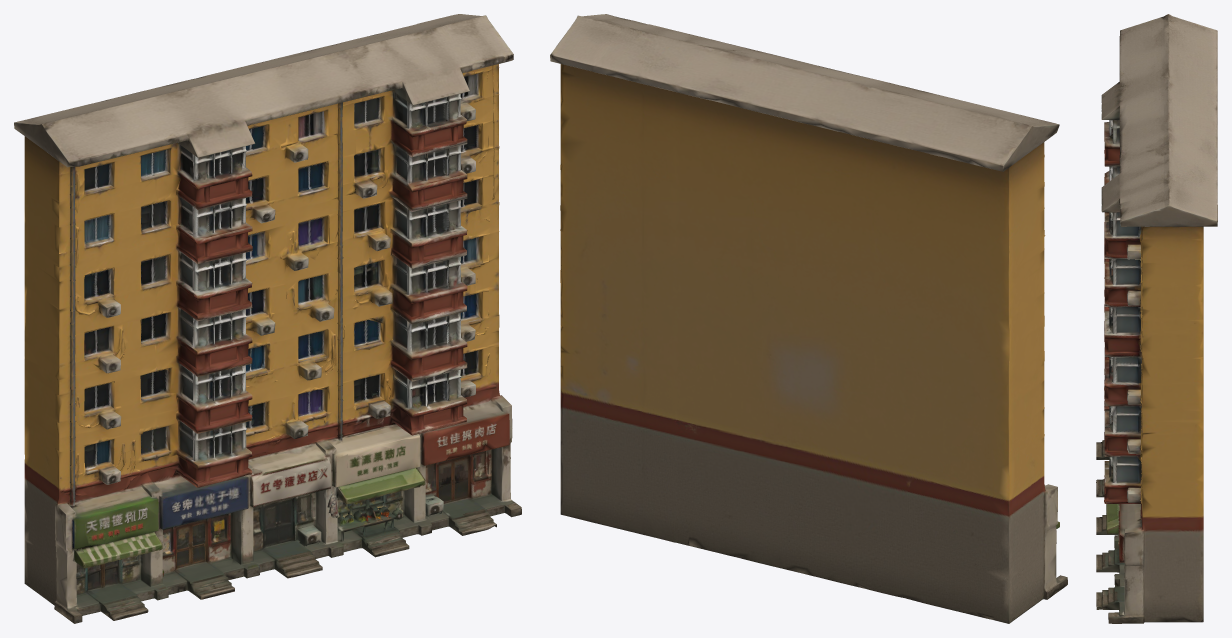
Rendered from tripo_convert_fdea5e5f-4280-4bd9-8c00-24547ec640b6.fbx.
The picture shows the model from 3 angles, left to right: view 1: azimuth 30°, elevation 25°; view 2: azimuth 150°, elevation 25°; view 3: azimuth 270°, elevation 25°; orthographic projection. The views are drawn at different scales.
Visible parts, largest first — view 1: tripo_node_fdea5e5f; view 2: tripo_node_fdea5e5f; view 3: tripo_node_fdea5e5f.
Part boxes in pixels (left/top/right/bottom): tripo_node_fdea5e5f: left=14, top=14, right=521, bottom=623; tripo_node_fdea5e5f: left=550, top=14, right=1067, bottom=623; tripo_node_fdea5e5f: left=1096, top=14, right=1217, bottom=623.
Size of the model in its own units: 0.9665 by 0.9789 by 0.2582.
1 material, 1 textured.
